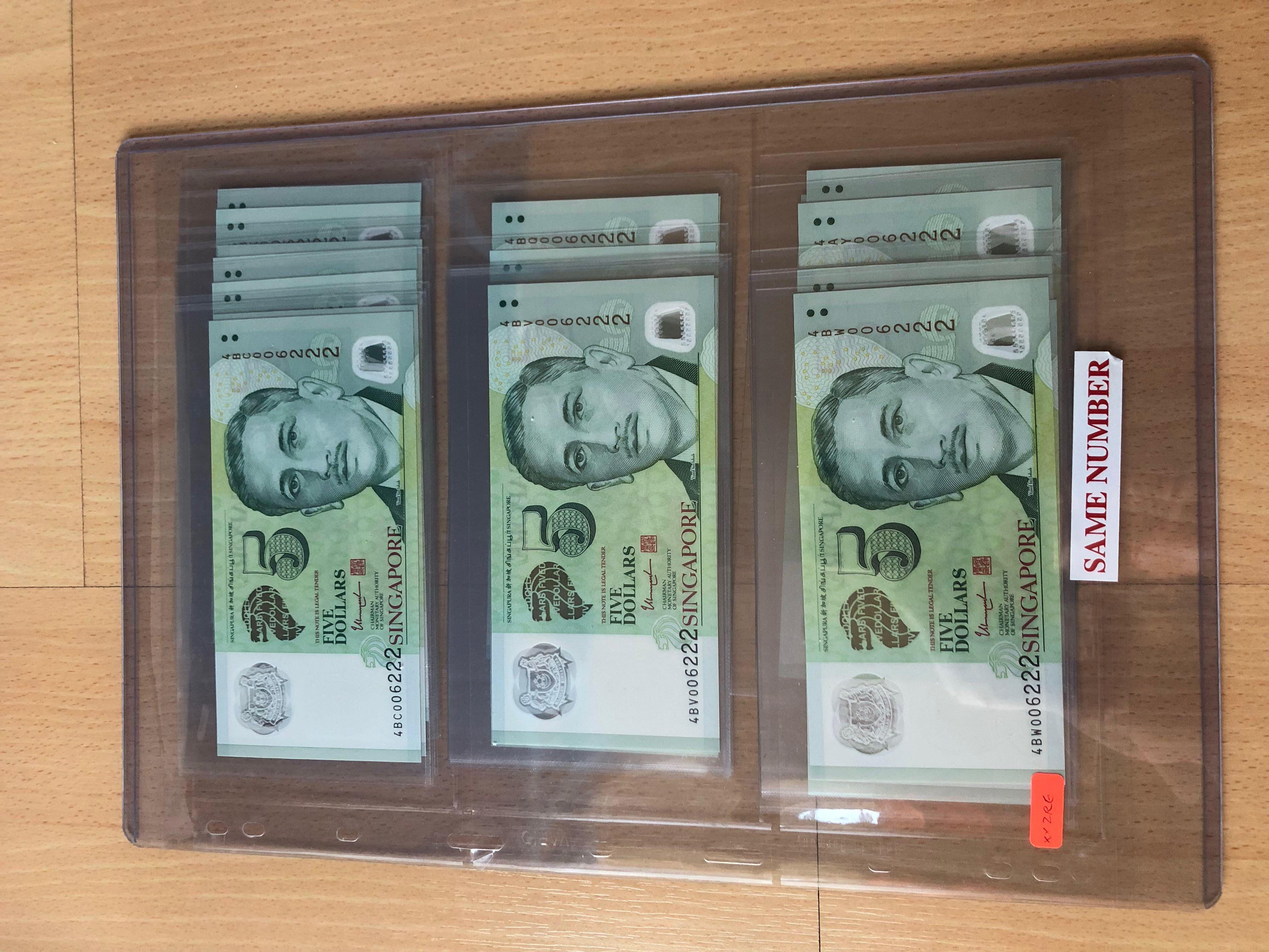5SingaporeDollar: (218, 323, 413, 754)
